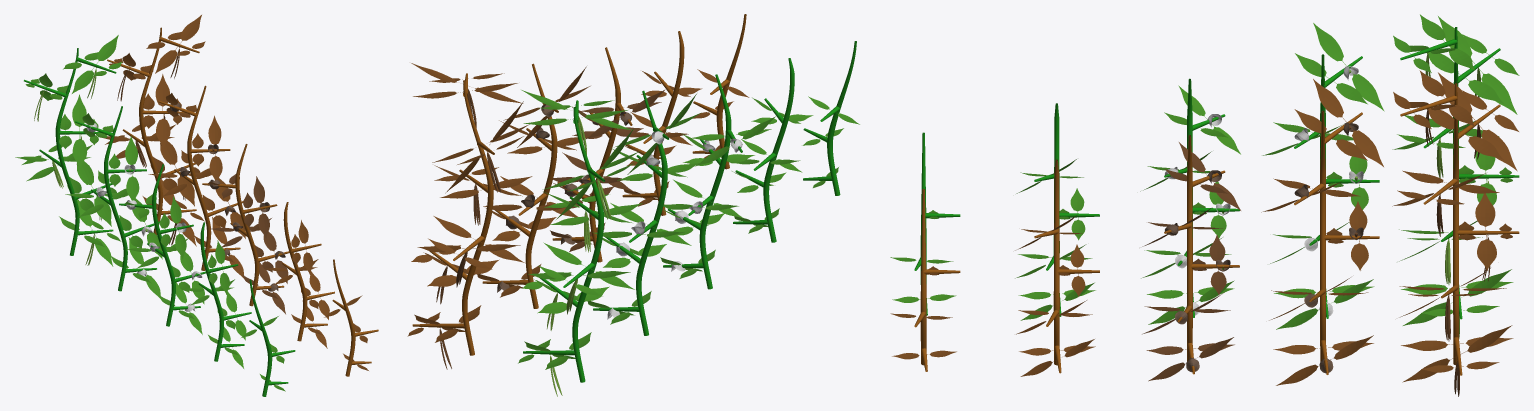
File: Haricot.glb
3 views of the same model, side by side, from view 1: azimuth 30°, elevation 25°; view 2: azimuth 150°, elevation 25°; view 3: azimuth 270°, elevation 25° (orthographic). The views are drawn at different scales.
Parts seen in each view (by area): view 1: BézierCurveFleur, BézierCurveFleur.001, BézierCurveBourgeons, BézierCurveBourgeons.004, BézierCurveBourgeons.001, BézierCurveBourgeons.005, BézierCurveBourgeons.006, BézierCurveBourgeons.002, BézierCurveBourgeons.007, BézierCurveBourgeons.003; view 2: BézierCurveFleur.001, BézierCurveFleur, BézierCurveBourgeons, BézierCurveBourgeons.004, BézierCurveBourgeons.001, BézierCurveBourgeons.005, BézierCurveBourgeons.002, BézierCurveBourgeons.006, BézierCurveBourgeons.003, BézierCurveBourgeons.007; view 3: BézierCurveFleur.001, BézierCurveFleur, BézierCurveBourgeons.004, BézierCurveBourgeons, BézierCurveBourgeons.005, BézierCurveBourgeons.001, BézierCurveBourgeons.006, BézierCurveBourgeons.002, BézierCurveBourgeons.007, BézierCurveBourgeons.003.
Boxes of the visible parts, x1=… form: BézierCurveFleur: x1=15, y1=35, x2=121, y2=266; BézierCurveFleur.001: x1=102, y1=15, x2=205, y2=246; BézierCurveBourgeons: x1=65, y1=106, x2=162, y2=298; BézierCurveBourgeons.004: x1=148, y1=85, x2=245, y2=278; BézierCurveBourgeons.001: x1=119, y1=164, x2=205, y2=334; BézierCurveBourgeons.005: x1=202, y1=144, x2=289, y2=314; BézierCurveBourgeons.006: x1=265, y1=202, x2=334, y2=348; BézierCurveBourgeons.002: x1=182, y1=222, x2=251, y2=368; BézierCurveBourgeons.007: x1=324, y1=259, x2=378, y2=376; BézierCurveBourgeons.003: x1=241, y1=279, x2=295, y2=396; BézierCurveFleur.001: x1=407, y1=63, x2=532, y2=369; BézierCurveFleur: x1=518, y1=90, x2=642, y2=396; BézierCurveBourgeons: x1=587, y1=90, x2=701, y2=335; BézierCurveBourgeons.004: x1=477, y1=63, x2=590, y2=308; BézierCurveBourgeons.001: x1=660, y1=74, x2=775, y2=289; BézierCurveBourgeons.005: x1=550, y1=47, x2=665, y2=262; BézierCurveBourgeons.002: x1=732, y1=58, x2=813, y2=242; BézierCurveBourgeons.006: x1=622, y1=31, x2=702, y2=215; BézierCurveBourgeons.003: x1=802, y1=41, x2=859, y2=195; BézierCurveBourgeons.007: x1=692, y1=14, x2=749, y2=169; BézierCurveFleur.001: x1=1392, y1=70, x2=1519, y2=396; BézierCurveFleur: x1=1392, y1=14, x2=1519, y2=338; BézierCurveBourgeons.004: x1=1261, y1=79, x2=1383, y2=385; BézierCurveBourgeons: x1=1262, y1=23, x2=1384, y2=329; BézierCurveBourgeons.005: x1=1142, y1=135, x2=1240, y2=381; BézierCurveBourgeons.001: x1=1140, y1=78, x2=1240, y2=324; BézierCurveBourgeons.006: x1=1015, y1=159, x2=1099, y2=376; BézierCurveBourgeons.002: x1=1015, y1=103, x2=1099, y2=320; BézierCurveBourgeons.007: x1=890, y1=189, x2=960, y2=371; BézierCurveBourgeons.003: x1=890, y1=132, x2=960, y2=315.
Size of the model in its own units: 2.14 by 2.58 by 4.74.
